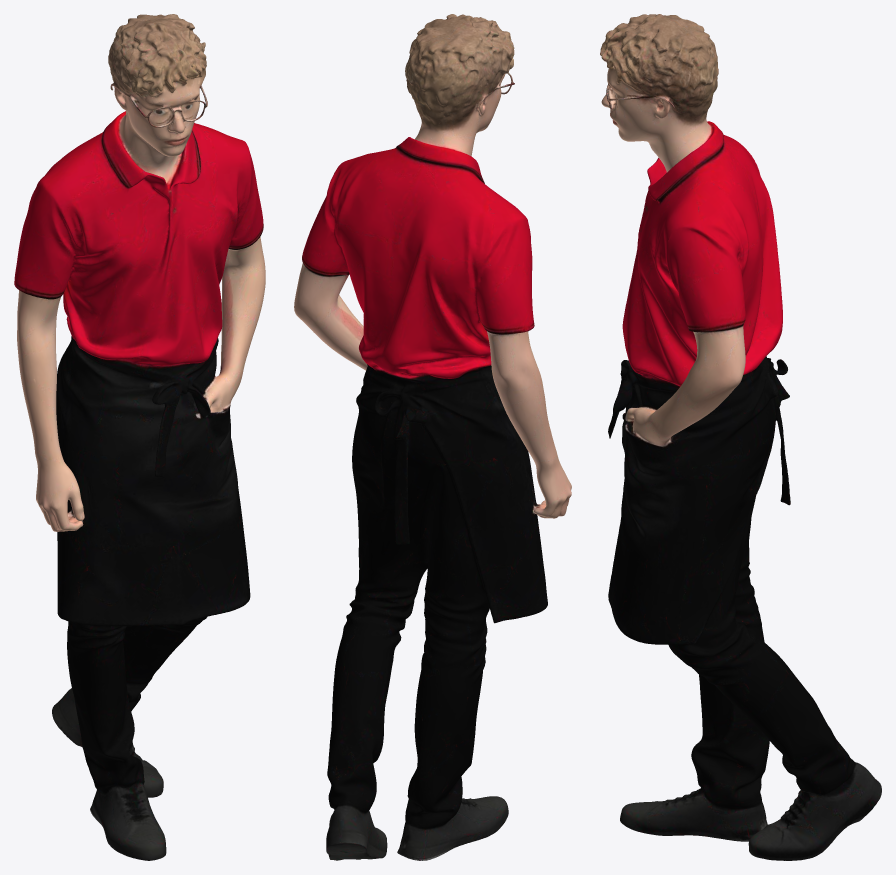
The model's file is manager.glb.
The picture shows the model from 3 angles, left to right: view 1: azimuth 30°, elevation 25°; view 2: azimuth 150°, elevation 25°; view 3: azimuth 270°, elevation 25°; orthographic projection. The views are drawn at different scales.
Visible parts, largest first — view 1: Object_6, Object_7, Object_5; view 2: Object_5, Object_6, Object_7; view 3: Object_6, Object_5, Object_7.
Boxes of the visible parts, bbox=[...] form: Object_6: bbox=[25, 14, 265, 857]; Object_7: bbox=[64, 23, 250, 860]; Object_5: bbox=[14, 14, 265, 832]; Object_5: bbox=[294, 30, 557, 860]; Object_6: bbox=[312, 17, 571, 860]; Object_7: bbox=[446, 14, 545, 817]; Object_6: bbox=[608, 14, 881, 860]; Object_5: bbox=[600, 23, 868, 860]; Object_7: bbox=[603, 14, 662, 834].
Size of the model in its own units: 0.6008 by 1.9 by 0.5942.
1 material, 1 textured.
